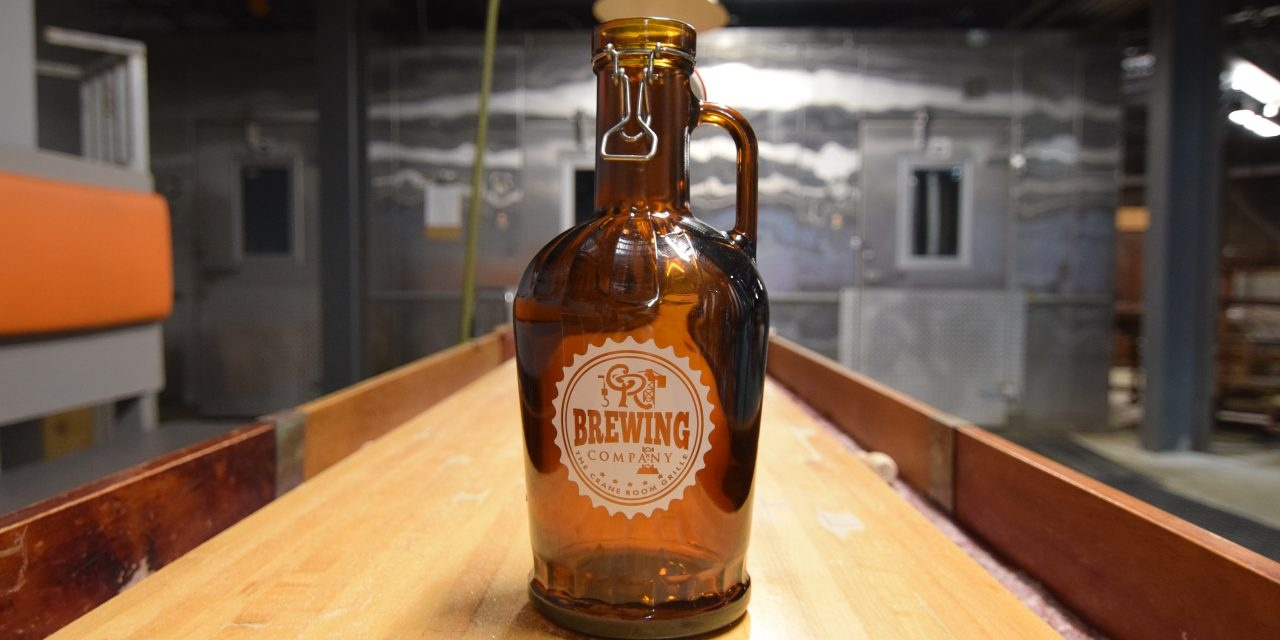beerBottle: (517, 28, 757, 640)
